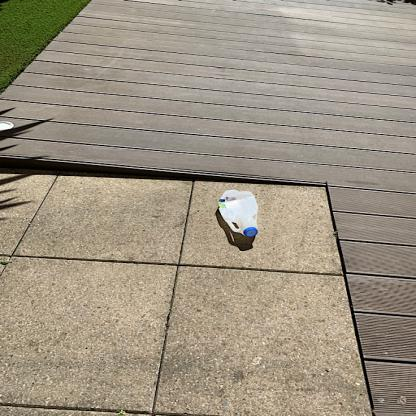trash: (215, 190, 259, 236)
